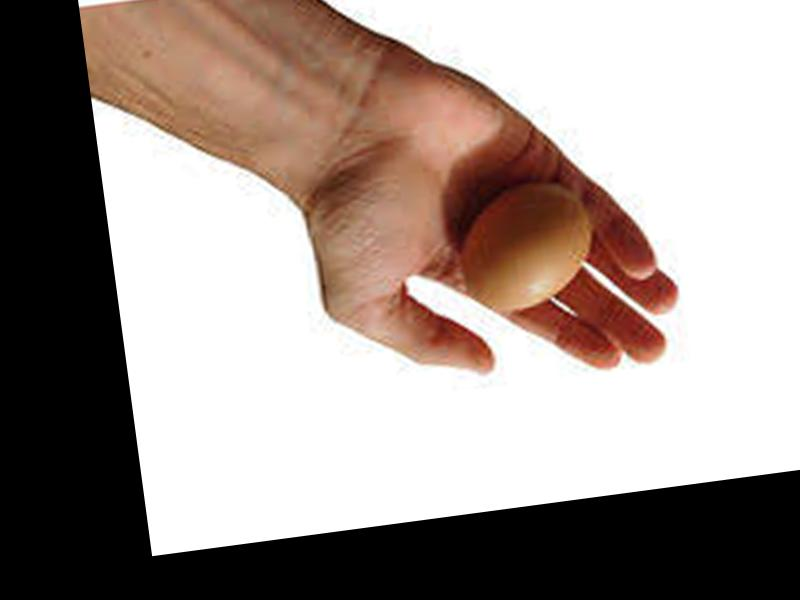Eggs: (457, 178, 601, 311)
